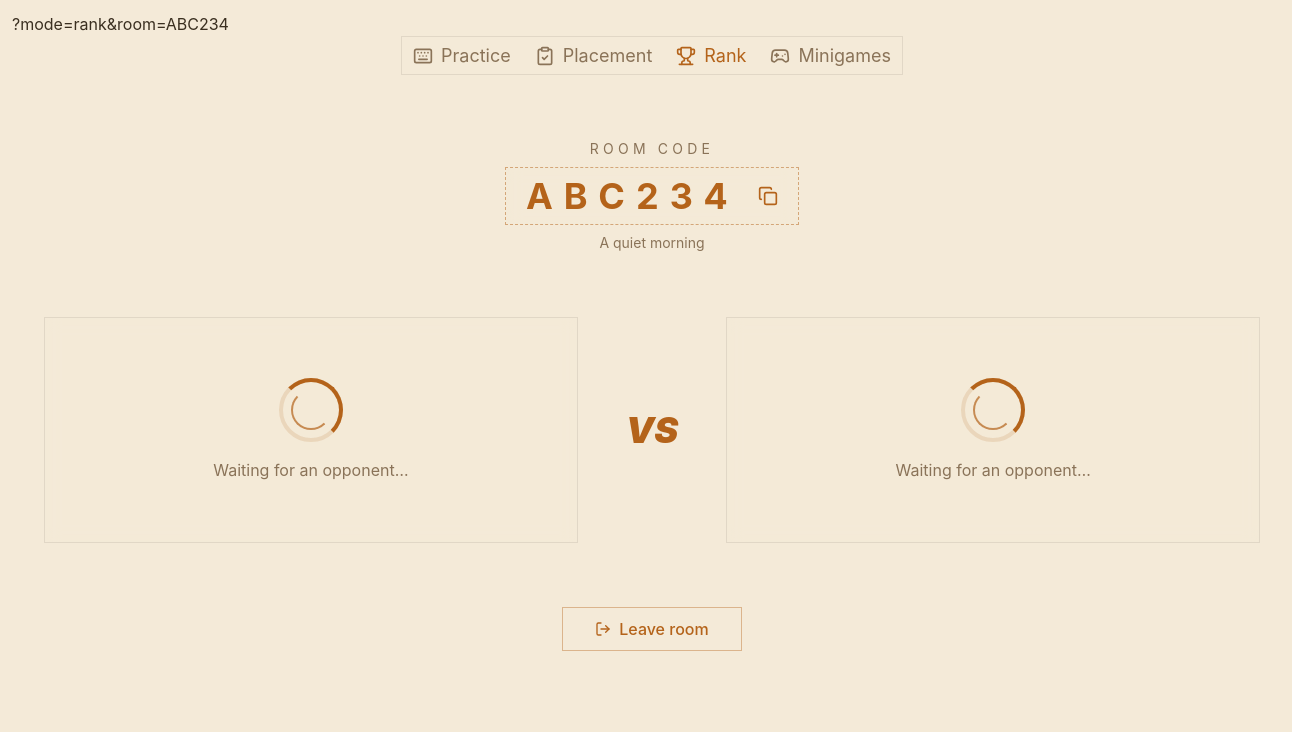
Test case: TypingPage › comes back to the room after a look at Practice (ranked duel, phase 4)
Expected: the text "ABC234" is shown, [526,176,738,216]
Click the radio button labelled "Practice" at (462, 56), box [401,36,523,75]
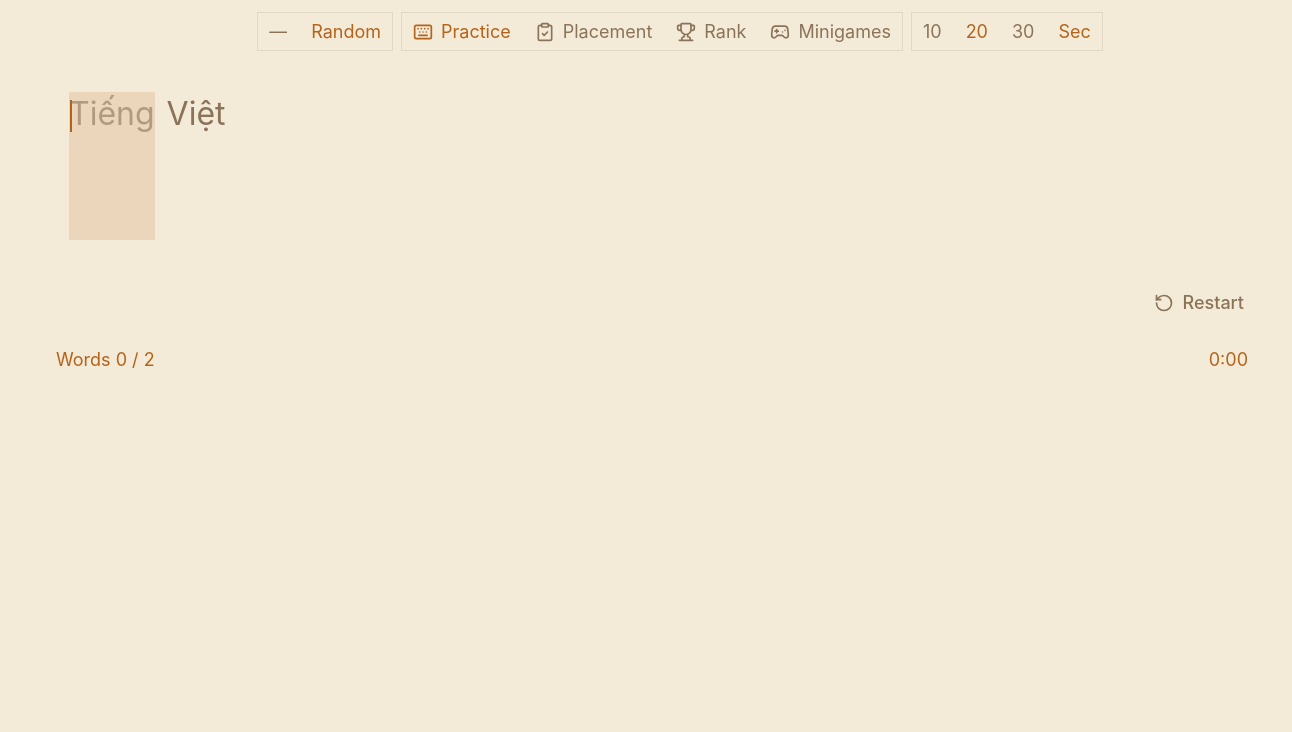
Click the radio button labelled "Rank" at (711, 32), box [664,12,758,51]
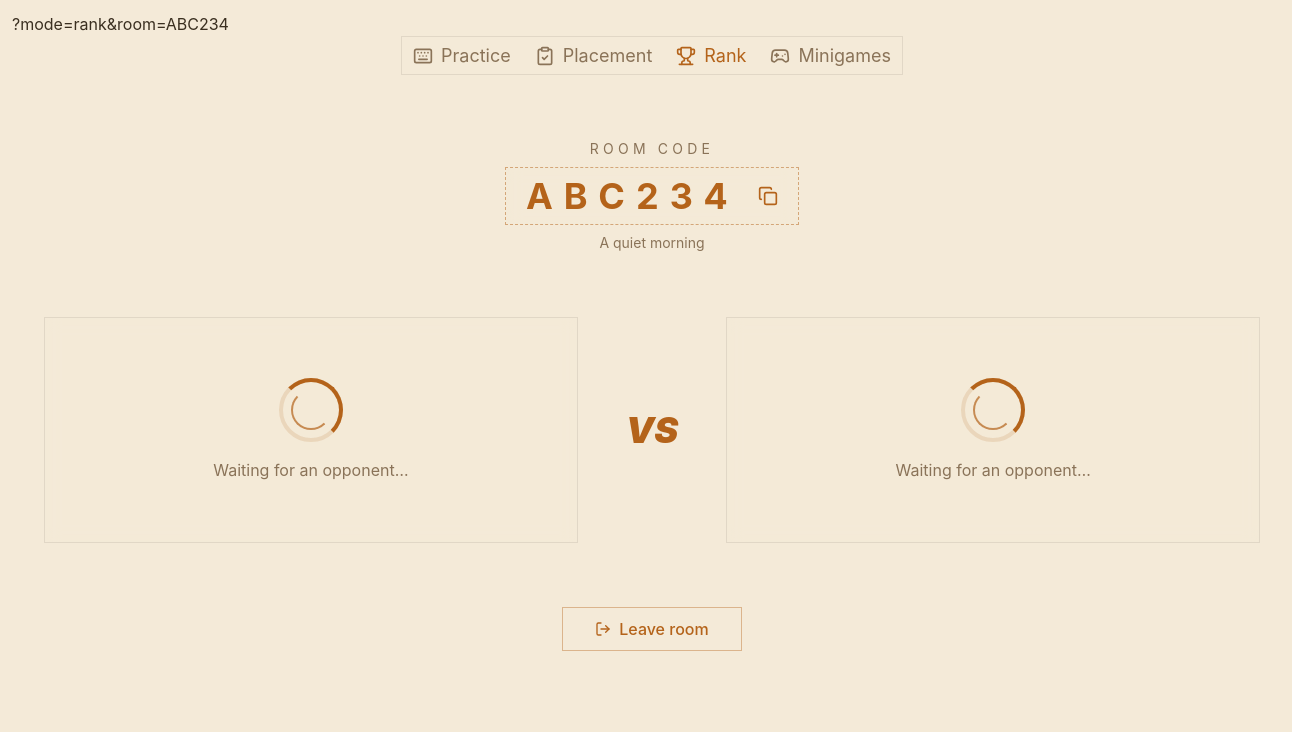
Expected: the text named "URL search" shows "room=ABC234", [12,14,229,34]
